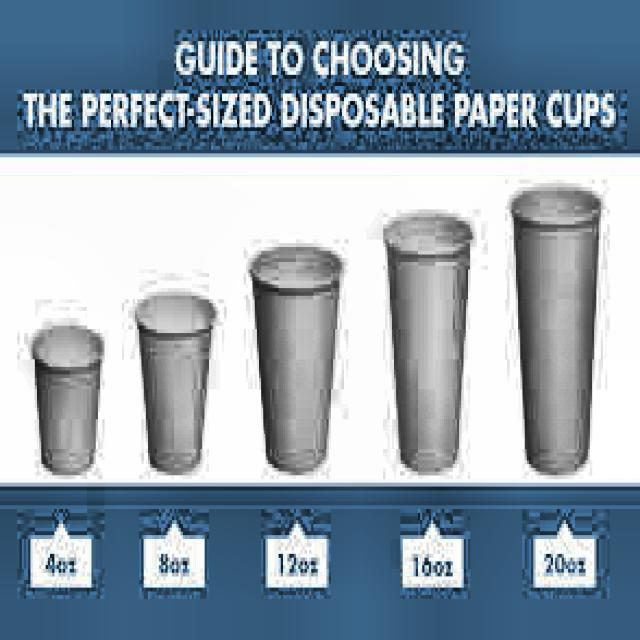Cup: (507, 185, 603, 484), (379, 203, 473, 482), (244, 245, 350, 476), (133, 288, 220, 476), (31, 322, 112, 478)
